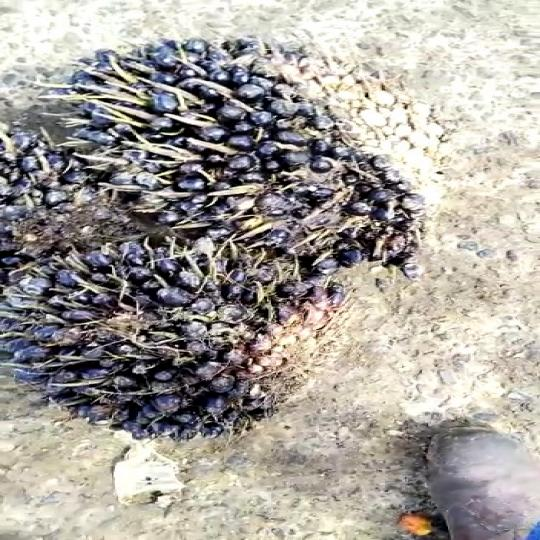mentah: (53, 33, 440, 264), (0, 240, 325, 446)
